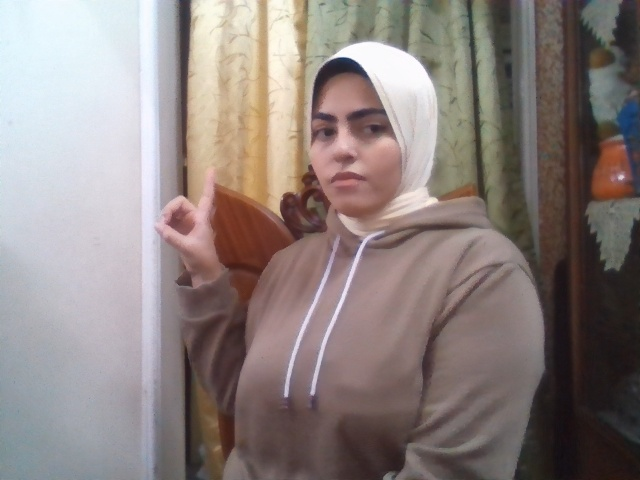D: (153, 166, 217, 276)
